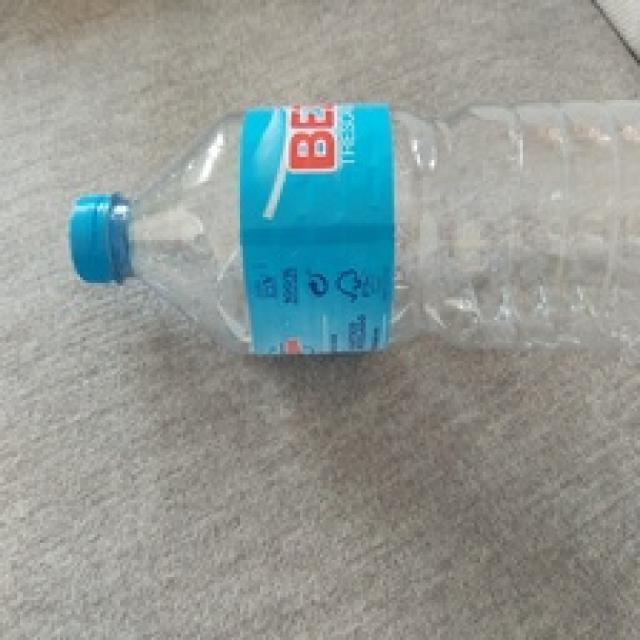Plastic: (73, 105, 640, 358)
